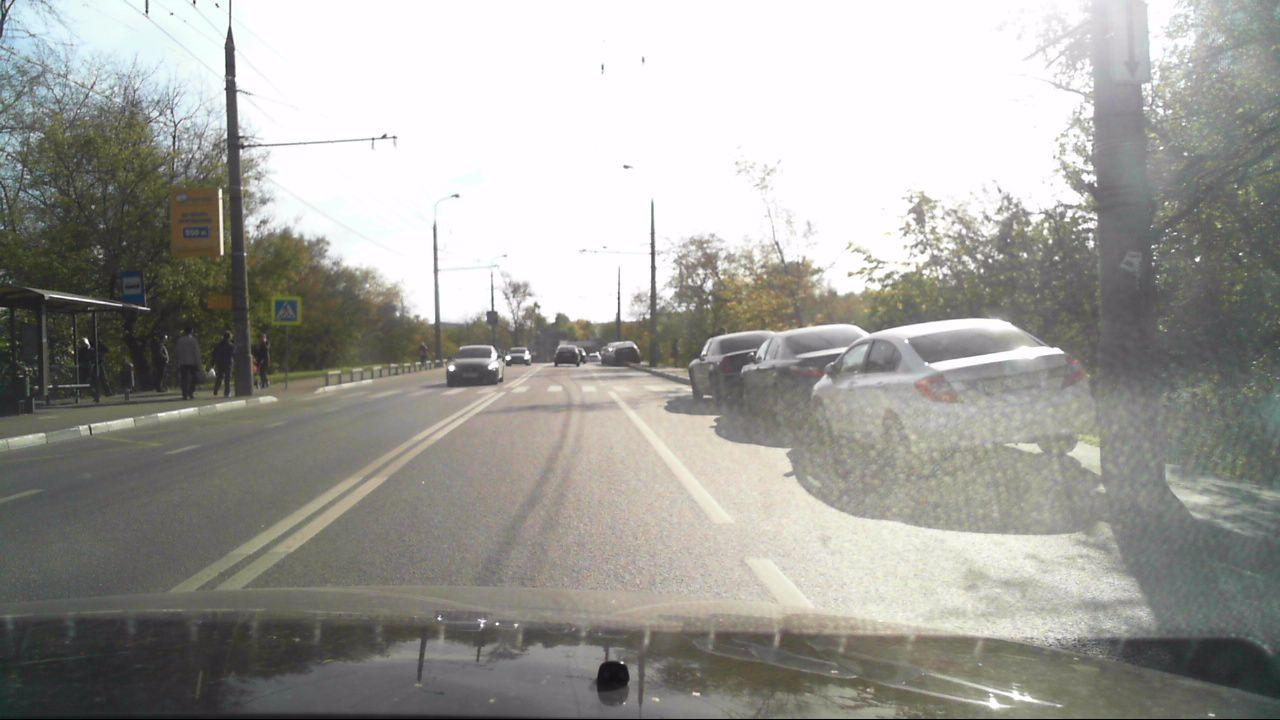5_16: (120, 269, 145, 303)
5_19_1: (274, 299, 300, 322)
8_2_3: (1111, 0, 1153, 80)
